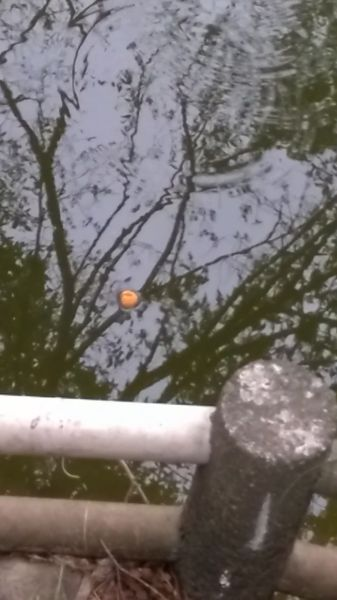eggs: (114, 287, 142, 311)
